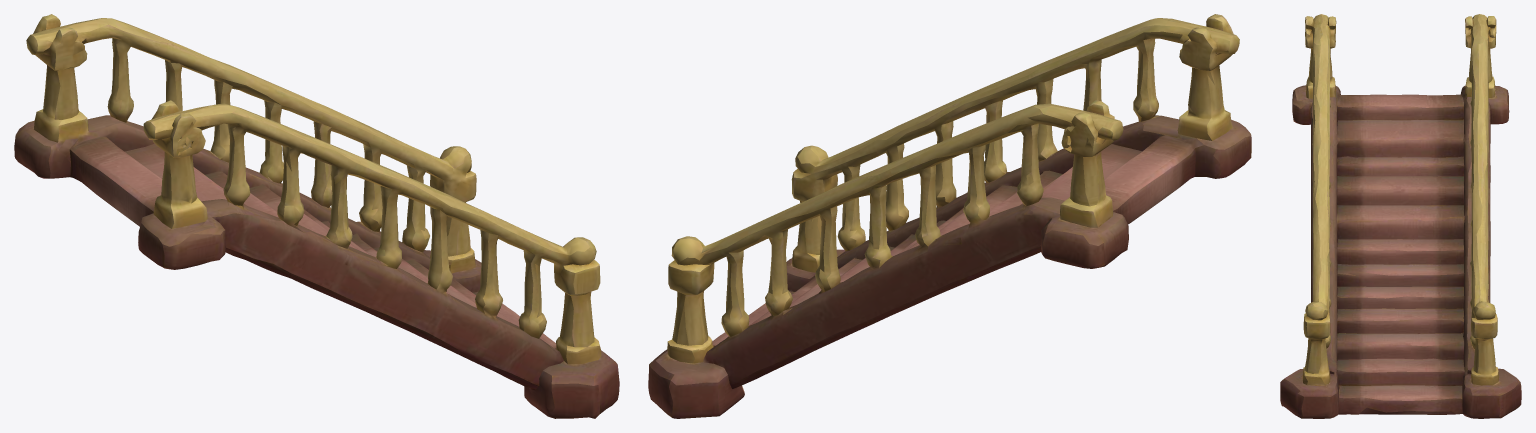
File: a-wide-curved-stone-staircase-wi-9041f4.glb
The picture shows the model from 3 angles, left to right: view 1: azimuth 30°, elevation 25°; view 2: azimuth 150°, elevation 25°; view 3: azimuth 270°, elevation 25°; orthographic projection. The views are drawn at different scales.
Parts seen in each view (by area): view 1: geometry_0; view 2: geometry_0; view 3: geometry_0.
Part boxes in pixels (x1,y1,x2,y2): geometry_0: [14, 14, 619, 418]; geometry_0: [648, 14, 1251, 418]; geometry_0: [1280, 14, 1521, 418].
Size of the model in its own units: 1 by 0.803 by 0.6735.
Materials: 1 (1 with a texture image).
